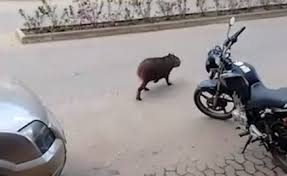capivara: (136, 53, 181, 100)
